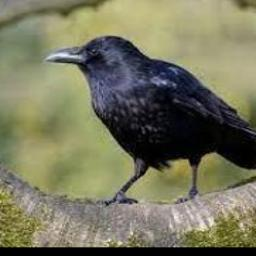Crow: (44, 36, 256, 205)
